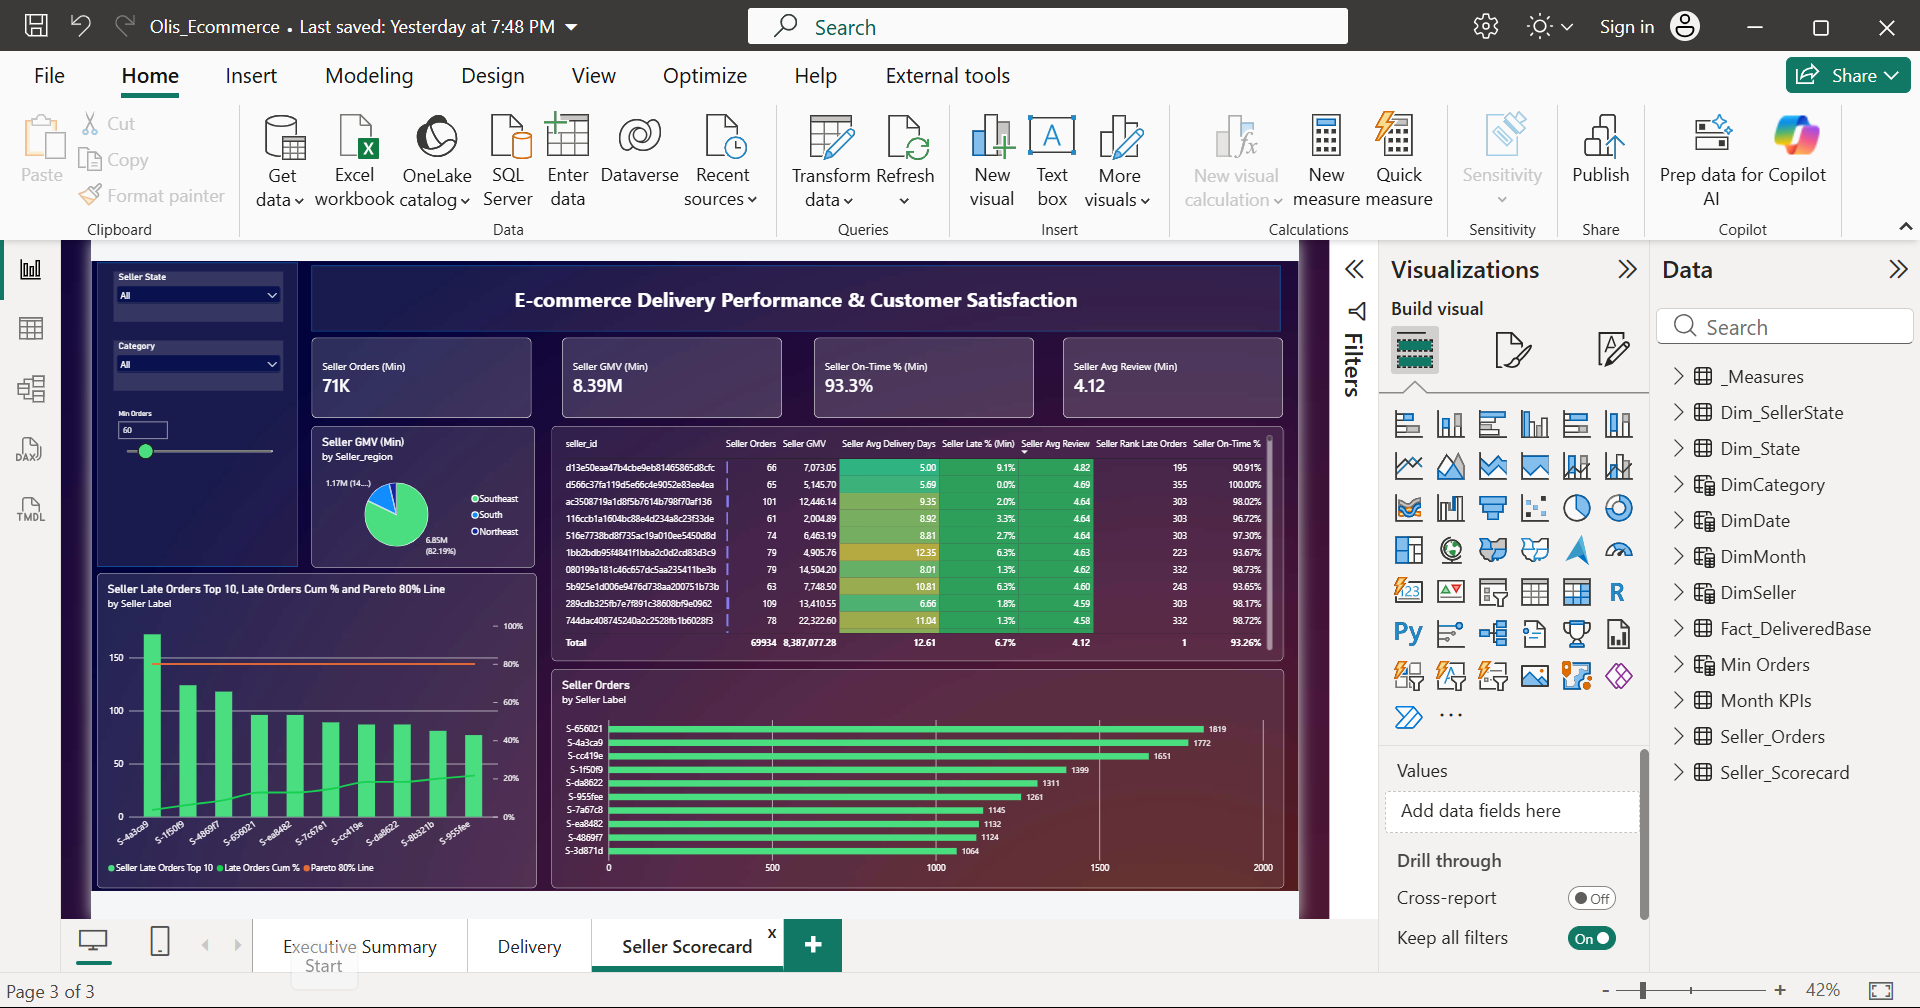

What the dashboard file says about the page in this screenshot:
{"tool":"powerbi","page":{"name":"Seller Scorecard","canvas":[1920,1080],"ordinal":2},"visuals":[{"type":"shape","box":[9.5,35,319.7,484.3],"z":0},{"type":"slicer","fields":{"Values":["DimSeller.seller_state"]},"box":[35,50,270,80],"z":1000},{"type":"slicer","fields":{"Values":["DimCategory.category"]},"box":[35.8,160,270,80],"z":2000},{"type":"cardVisual","fields":{"Data":["_Measures.Seller GMV (Min)"]},"box":[750,155.1,350,128.8],"z":3000},{"type":"cardVisual","fields":{"Data":["_Measures.Seller Orders (Min)"]},"box":[350,155.1,350,128.8],"z":4000},{"type":"cardVisual","fields":{"Data":["_Measures.Seller Avg Review (Min)"]},"box":[1545,155.1,350,128.8],"z":5000},{"type":"cardVisual","fields":{"Data":["_Measures.Seller On-Time % (Min)"]},"box":[1150,155.1,350,128.8],"z":6000},{"type":"slicer","fields":{"Values":["Min Orders.Min Orders"]},"box":[35.8,269.6,269.6,81.1],"z":7000},{"type":"tableEx","fields":{"Values":["DimSeller.seller_id","_Measures.Seller Orders","_Measures.Seller GMV","_Measures.Seller Avg Delivery Days","_Measures.Seller Late % (Min)","_Measures.Seller Avg Review","_Measures.Seller Rank Late Orders","_Measures.Seller On-Time %"]},"box":[733,295,1164.3,374],"z":8000},{"type":"lineClusteredColumnComboChart","fields":{"Category":["DimSeller.Seller Label"],"Y":["_Measures.Seller Late Orders Top 10"],"Y2":["_Measures.Late Orders Cum %","_Measures.Pareto 80% Line"]},"box":[9.5,530,699.1,501],"z":9000},{"type":"clusteredBarChart","fields":{"Category":["DimSeller.Seller Label"],"Y":["_Measures.Seller Orders"]},"box":[733,683,1165,348.3],"z":10000},{"type":"pieChart","fields":{"Category":["Dim_SellerState.Seller_region"],"Y":["_Measures.Seller GMV (Min)"]},"box":[350,295,355,225],"z":11000},{"type":"shape","box":[350.7,40.6,1541.3,105],"z":11001}]}

Visuals, with their boxes on the page's 1920x1080 design canvas (x1, y1, x2, y2). These are canvas units, not pixel positions in the 1920x1008 screenshot, which may show the page scaled, cropped or inside an application window:
shape: detection(10, 35, 329, 519)
slicer - DimSeller.seller_state: detection(35, 50, 305, 130)
slicer - DimCategory.category: detection(36, 160, 306, 240)
cardVisual - _Measures.Seller GMV (Min): detection(750, 155, 1100, 284)
cardVisual - _Measures.Seller Orders (Min): detection(350, 155, 700, 284)
cardVisual - _Measures.Seller Avg Review (Min): detection(1545, 155, 1895, 284)
cardVisual - _Measures.Seller On-Time % (Min): detection(1150, 155, 1500, 284)
slicer - Min Orders.Min Orders: detection(36, 270, 305, 351)
tableEx - DimSeller.seller_id x _Measures.Seller Orders: detection(733, 295, 1897, 669)
lineClusteredColumnComboChart - DimSeller.Seller Label x _Measures.Seller Late Orders Top 10: detection(10, 530, 709, 1031)
clusteredBarChart - DimSeller.Seller Label x _Measures.Seller Orders: detection(733, 683, 1898, 1031)
pieChart - Dim_SellerState.Seller_region x _Measures.Seller GMV (Min): detection(350, 295, 705, 520)
shape: detection(351, 41, 1892, 146)
